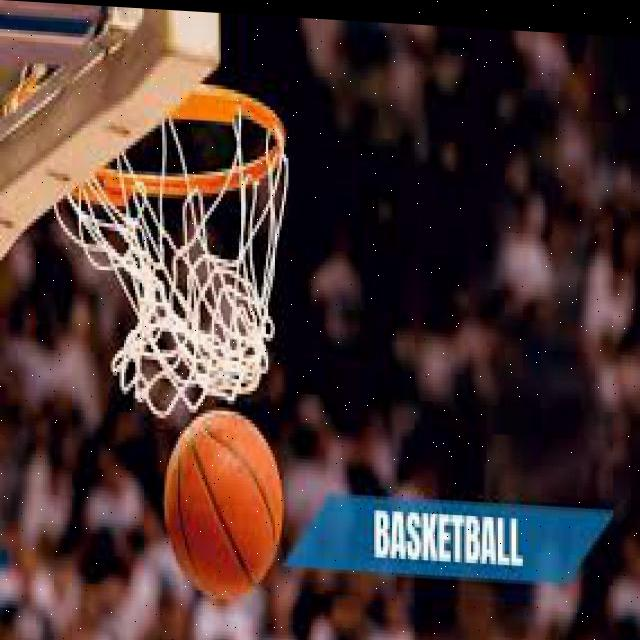basketball: (164, 410, 284, 601)
hoop: (71, 77, 286, 418)
